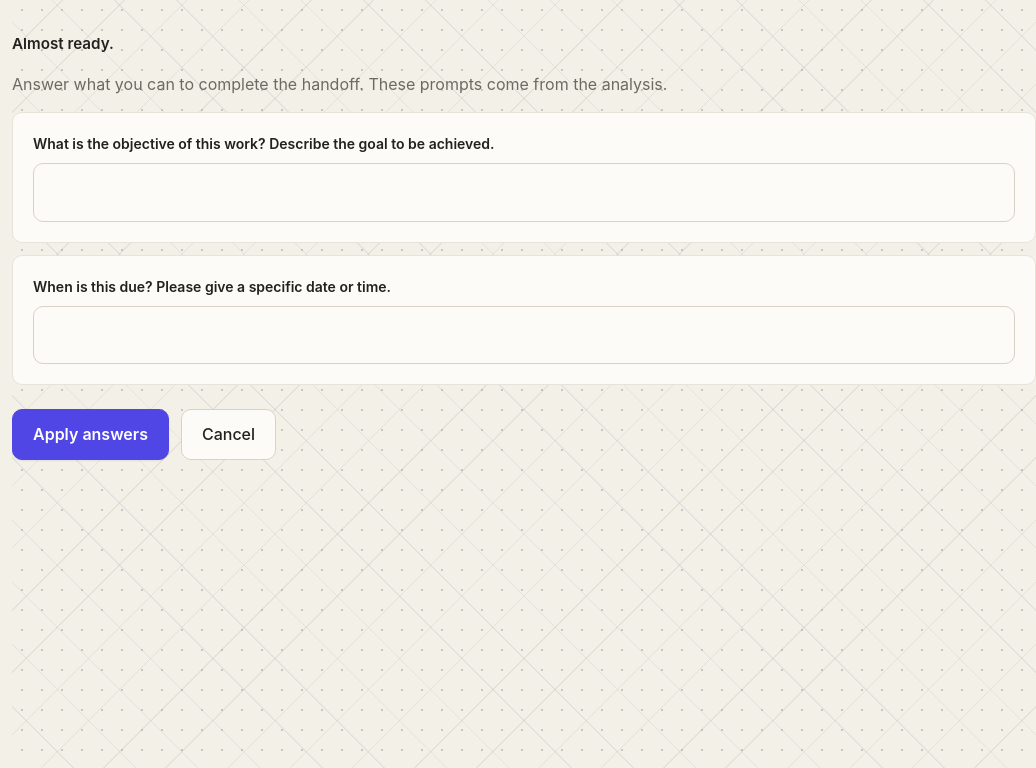
Test: ClarificationView › shows a safe error when apply-answers fails
Type "x" into the 1st field at (524, 192), box [33,163,1015,222]
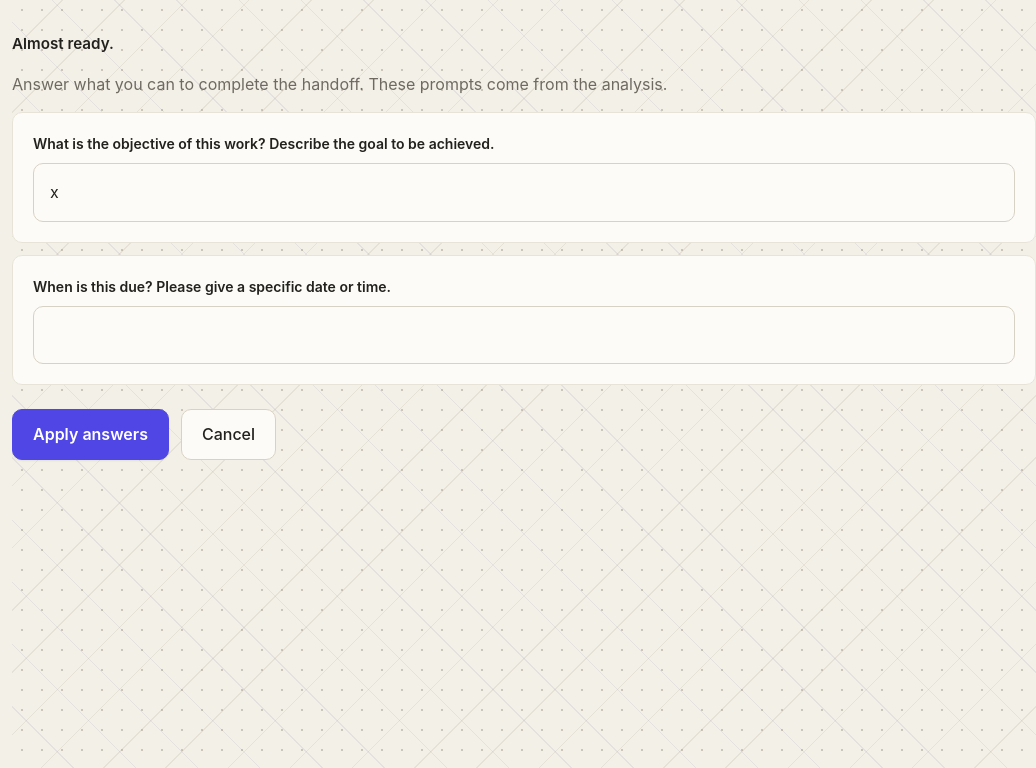
Click the button "Apply answers" at (90, 435), box [12,409,169,460]
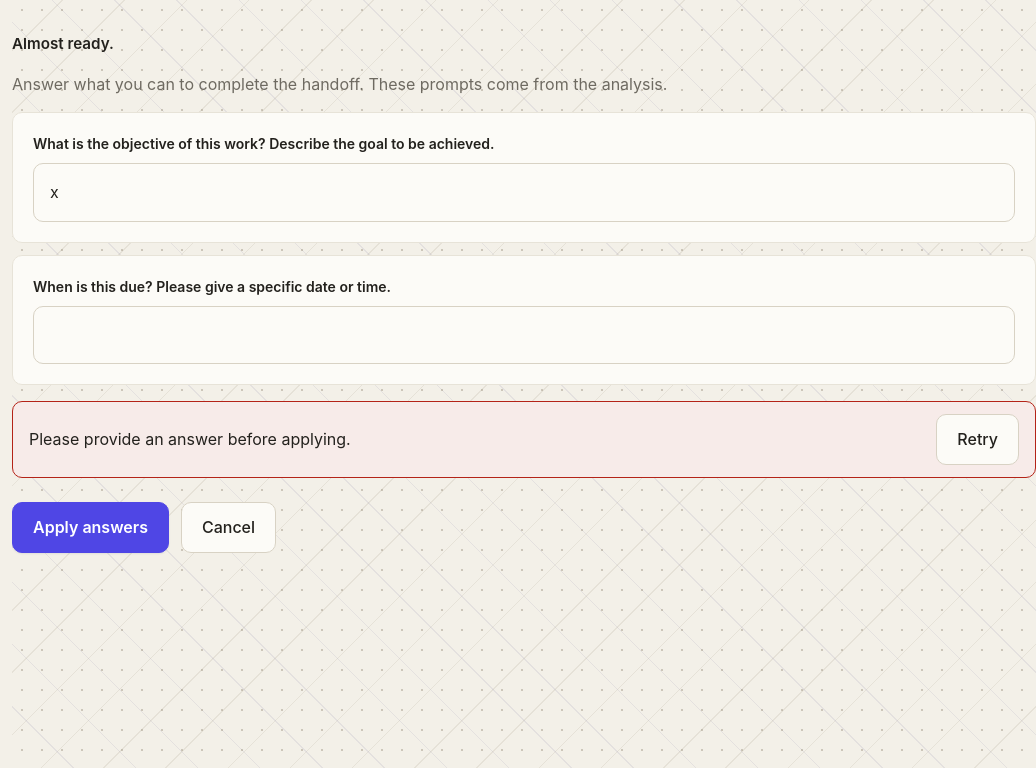
Result: the message shows "provide an answer" at [29,429,351,449]
